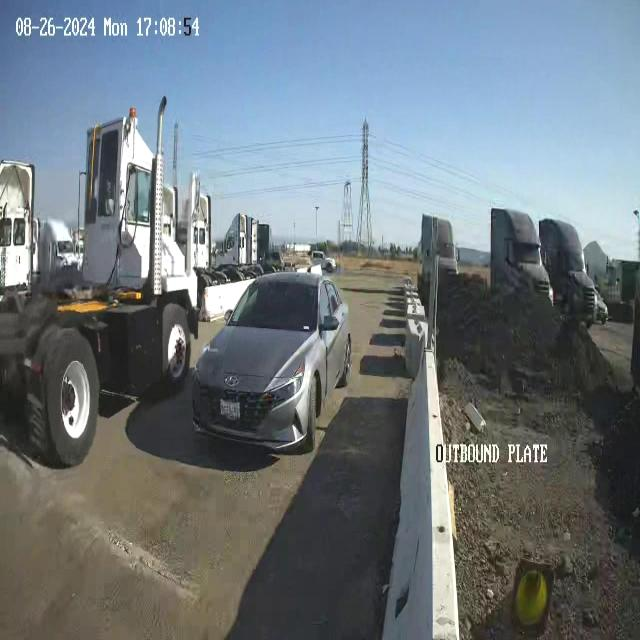BOBTAIL: (1, 95, 201, 469)
